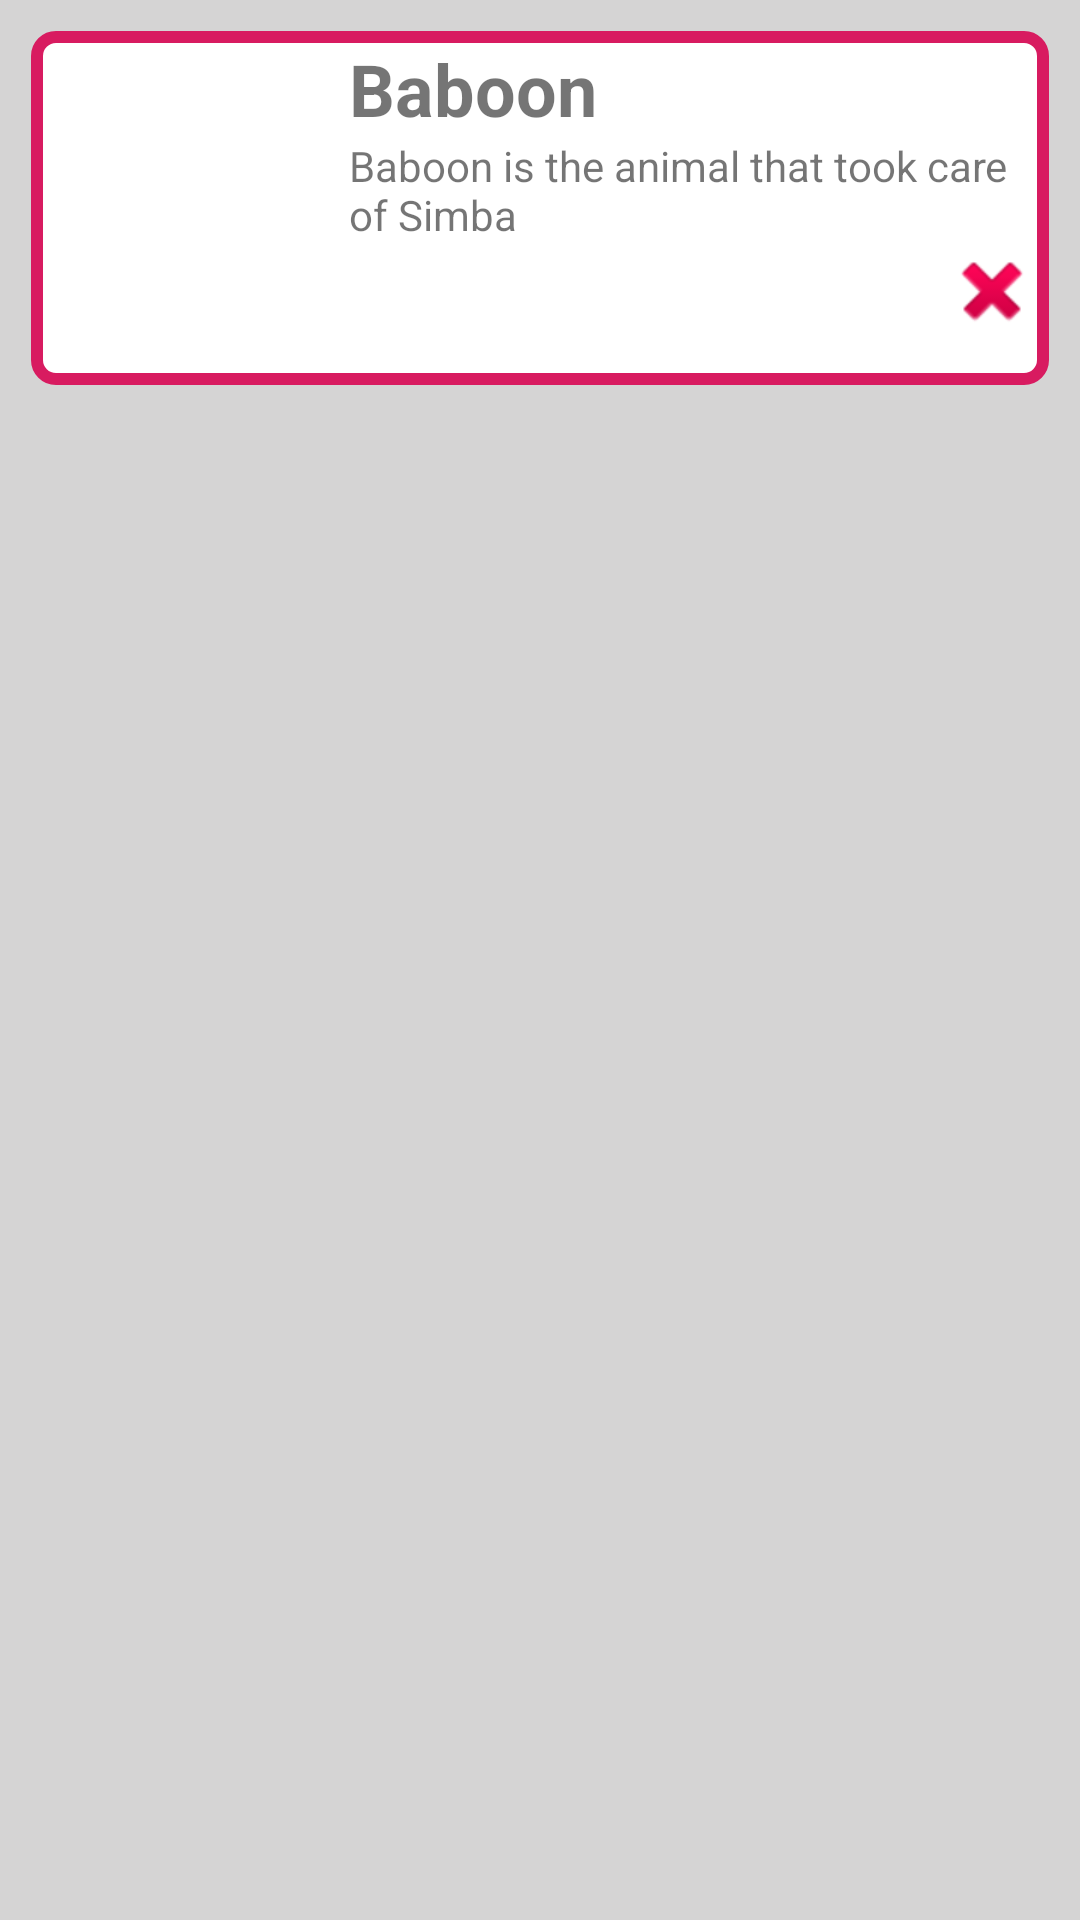

Where icons sit on this 1080px×1920px app screen, as (x1, y1, x2, y2):
delete: (961, 262, 1023, 321)
